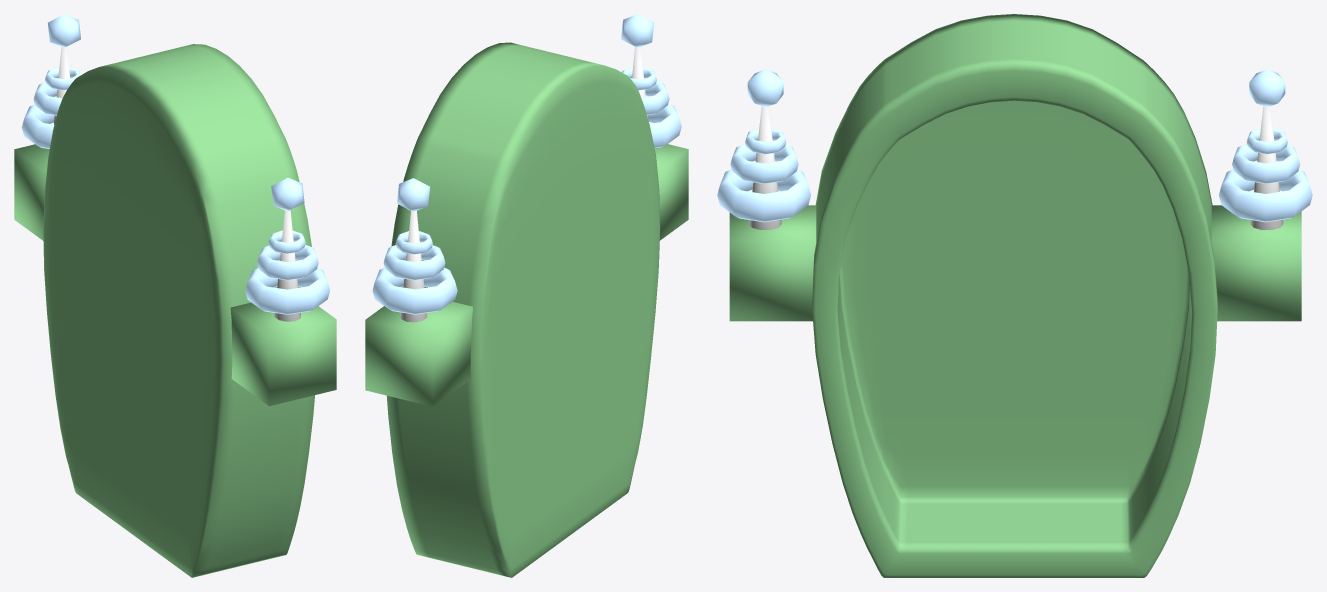
File: startportal.fbx
3 views of the same model, side by side, from view 1: azimuth 30°, elevation 25°; view 2: azimuth 150°, elevation 25°; view 3: azimuth 270°, elevation 25° (orthographic). The views are drawn at different scales.
Parts seen in each view (by area): view 1: Cube, Cube.001, Cube.002, Torus, Torus.001, Torus.005, Icosphere.001, Icosphere, Cone, Torus.004, Torus.002, Torus.003; view 2: Cube, Cube.002, Torus.005, Cube.001, Torus.004, Torus, Icosphere.001, Icosphere, Cone.001, Torus.001, Torus.003, Torus.002; view 3: Cube, Cube.002, Cube.001, Torus, Torus.005, Torus.001, Torus.004, Cone.001, Cone, Icosphere.001, Icosphere.
Boxes of the visible parts, bbox=[...] form: Cube: bbox=[43, 44, 314, 577]; Cube.001: bbox=[230, 302, 336, 406]; Cube.002: bbox=[14, 144, 49, 240]; Torus: bbox=[245, 267, 329, 314]; Torus.001: bbox=[257, 244, 318, 280]; Torus.005: bbox=[21, 104, 54, 148]; Icosphere.001: bbox=[48, 14, 80, 47]; Icosphere: bbox=[271, 177, 304, 210]; Cone: bbox=[274, 210, 300, 321]; Torus.004: bbox=[33, 82, 62, 115]; Torus.002: bbox=[268, 230, 305, 253]; Torus.003: bbox=[45, 67, 80, 90]; Cube: bbox=[386, 42, 660, 577]; Cube.002: bbox=[365, 301, 472, 406]; Torus.005: bbox=[372, 267, 457, 314]; Cube.001: bbox=[654, 144, 688, 240]; Torus.004: bbox=[383, 245, 445, 280]; Torus: bbox=[647, 103, 681, 148]; Icosphere.001: bbox=[397, 178, 430, 211]; Icosphere: bbox=[621, 14, 654, 47]; Cone.001: bbox=[400, 211, 427, 322]; Torus.001: bbox=[641, 81, 669, 114]; Torus.003: bbox=[395, 231, 432, 254]; Torus.002: bbox=[622, 67, 656, 90]; Cube: bbox=[812, 14, 1217, 577]; Cube.002: bbox=[1211, 205, 1301, 321]; Cube.001: bbox=[729, 205, 816, 321]; Torus: bbox=[717, 169, 810, 222]; Torus.005: bbox=[1219, 169, 1312, 222]; Torus.001: bbox=[730, 144, 798, 183]; Torus.004: bbox=[1232, 144, 1300, 183]; Cone.001: bbox=[1250, 106, 1283, 229]; Cone: bbox=[749, 106, 781, 229]; Icosphere.001: bbox=[1249, 69, 1285, 106]; Icosphere: bbox=[747, 69, 783, 106].
Bounding box in the file's own units: 138 × 620 × 653.
